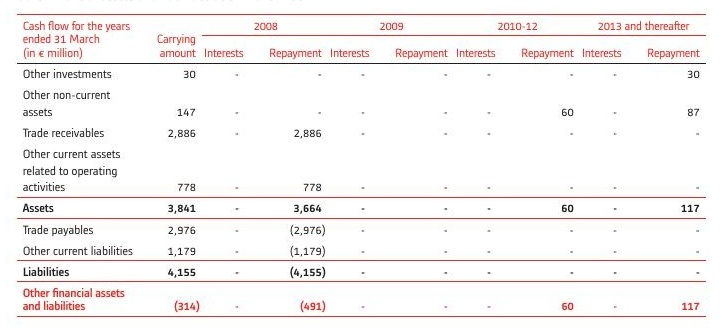table: (0, 0, 723, 333)
